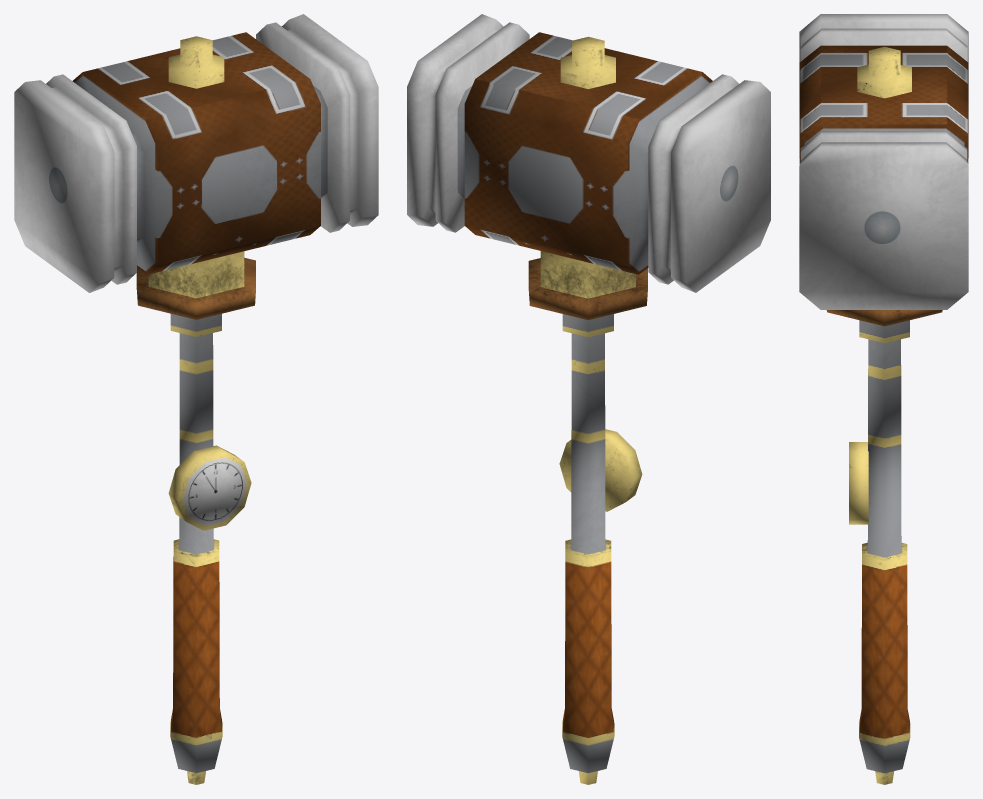
Rendered from Hammer.fbx.
The picture shows the model from 3 angles, left to right: view 1: azimuth 30°, elevation 25°; view 2: azimuth 150°, elevation 25°; view 3: azimuth 270°, elevation 25°; orthographic projection.
Visible parts, largest first — view 1: Hammer_LP; view 2: Hammer_LP; view 3: Hammer_LP.
Part boxes in pixels (x1=…): Hammer_LP: x1=14, y1=14, x2=378, y2=784; Hammer_LP: x1=407, y1=14, x2=770, y2=784; Hammer_LP: x1=799, y1=14, x2=968, y2=784.
Bounding box in the file's own units: 26.93 × 14.35 × 68.09.
